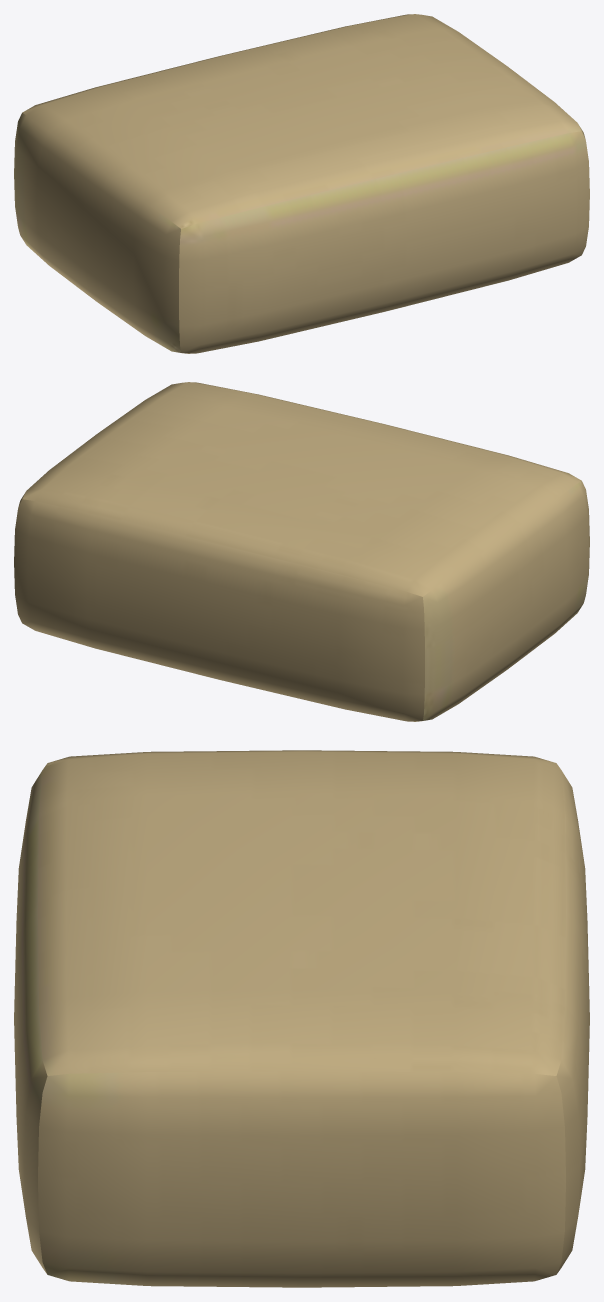
Rendered from soap.glb.
3 views of the same model, one above another, from view 1: azimuth 30°, elevation 25°; view 2: azimuth 150°, elevation 25°; view 3: azimuth 270°, elevation 25° (orthographic). The views are drawn at different scales.
Parts seen in each view (by area): view 1: soap; view 2: soap; view 3: soap.
Part boxes in pixels (x1,y1,x2,y2): soap: [14, 14, 589, 353]; soap: [14, 382, 589, 721]; soap: [14, 750, 589, 1287].
Bounding box in the file's own units: 0.0697 × 0.0247 × 0.0497.
1 material, 1 textured.
